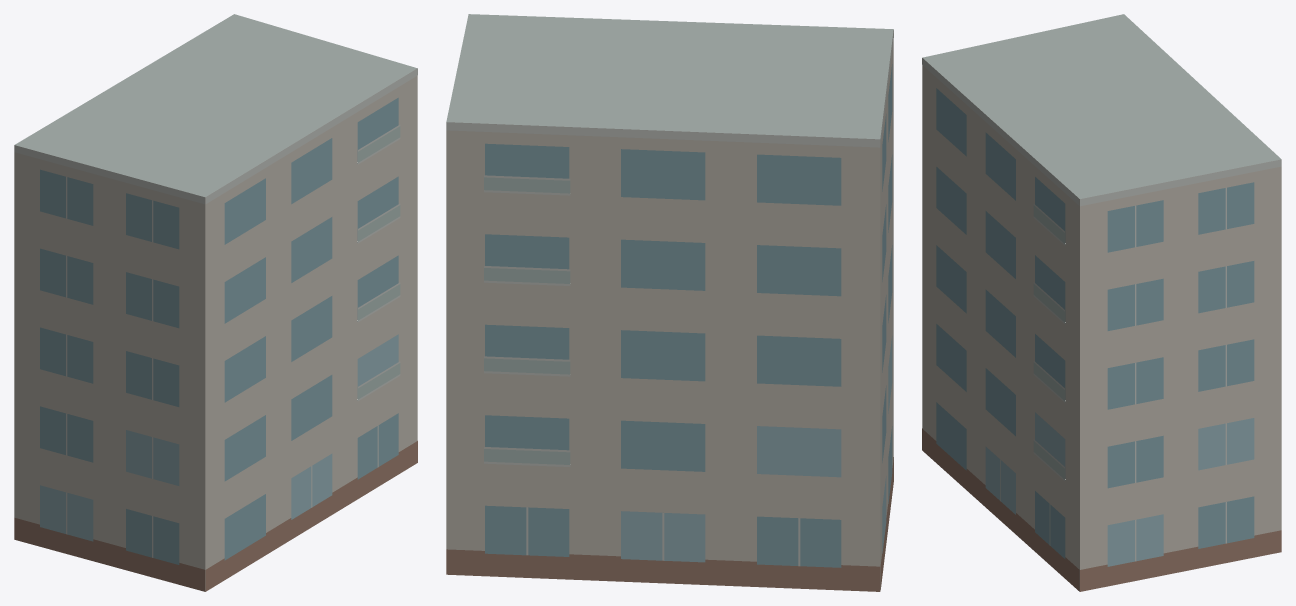
Rendered from survey-upis-32975224.glb.
3 renders of one model, left to right at view 1: azimuth 30°, elevation 25°; view 2: azimuth 150°, elevation 25°; view 3: azimuth 270°, elevation 25°, orthographic. The views are drawn at different scales.
Visible parts, largest first — view 1: survey-upis-32975224.tmp; view 2: survey-upis-32975224.tmp; view 3: survey-upis-32975224.tmp.
Part boxes in pixels (<box>): survey-upis-32975224.tmp: <box>14,14,417,591</box>; survey-upis-32975224.tmp: <box>446,14,893,591</box>; survey-upis-32975224.tmp: <box>922,14,1281,591</box>.
Size of the model in its own units: 13.56 by 13.4 by 11.13.
